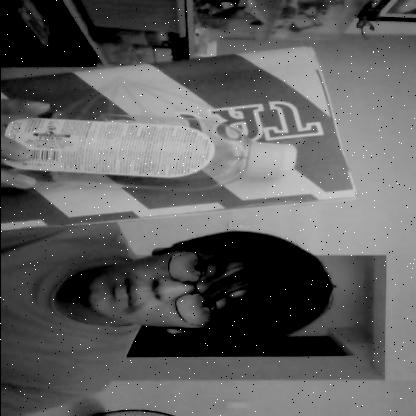Plastic Bottle: (0, 106, 302, 192)
